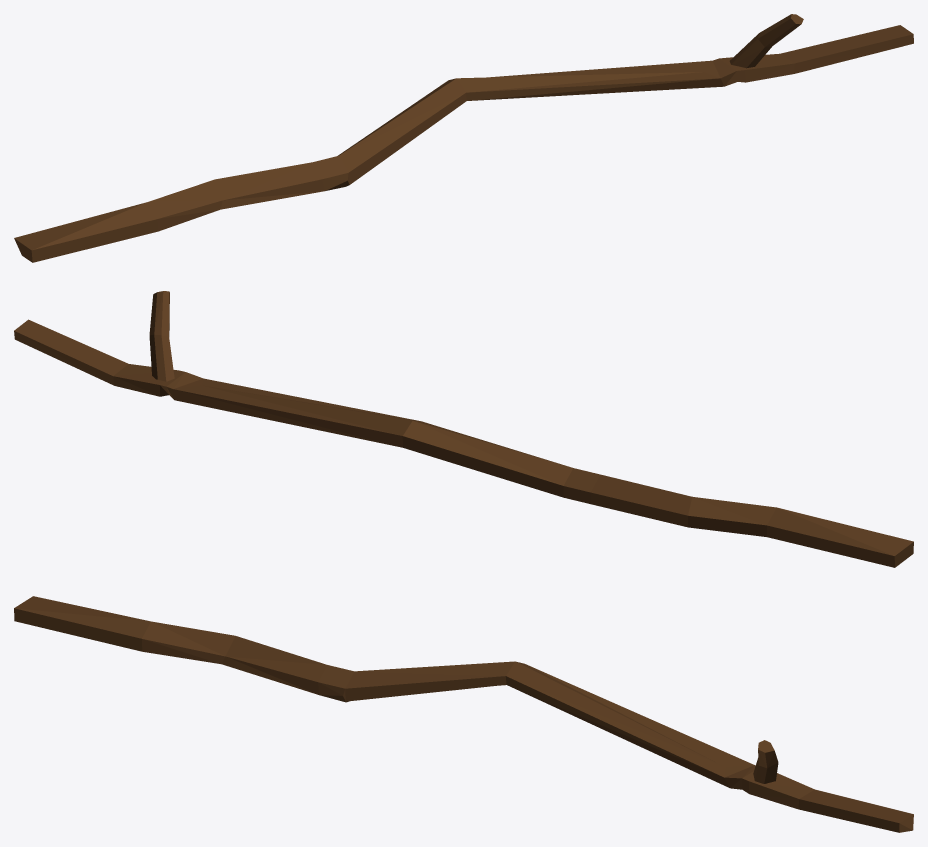
The model's file is SM_Tree_Spruce_Branch_A.fbx.
3 renders of one model, top to bottom at view 1: azimuth 30°, elevation 25°; view 2: azimuth 150°, elevation 25°; view 3: azimuth 330°, elevation 25°, orthographic.
Visible parts, largest first — view 1: tree-spruce-branch-a; view 2: tree-spruce-branch-a; view 3: tree-spruce-branch-a.
Boxes of the visible parts, x1,y1,x2,y2 form: tree-spruce-branch-a: (14,14,913,262); tree-spruce-branch-a: (14,291,913,567); tree-spruce-branch-a: (14,596,913,832).
Bounding box in the file's own units: 1.87 × 0.1636 × 0.2147.
